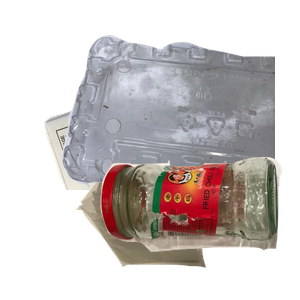glass: (98, 155, 300, 300)
paper: (42, 68, 275, 248)
plastic: (60, 32, 300, 212)
trash: (74, 148, 273, 300)
